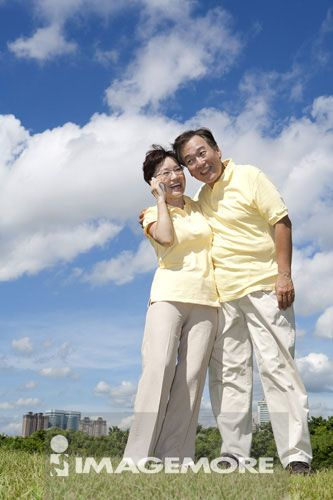talk: (149, 165, 186, 206)
